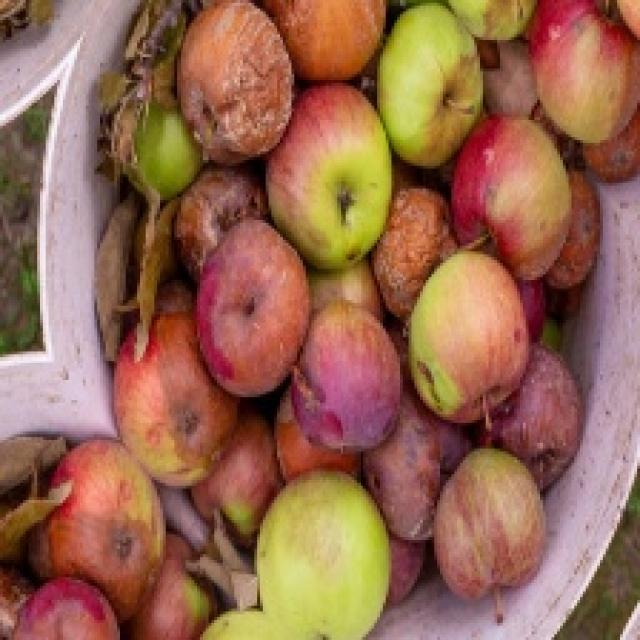rotten_apple: (50, 441, 160, 617), (177, 0, 292, 161), (117, 315, 212, 484), (207, 220, 297, 392), (303, 305, 398, 452), (491, 358, 581, 480), (377, 186, 442, 302)
